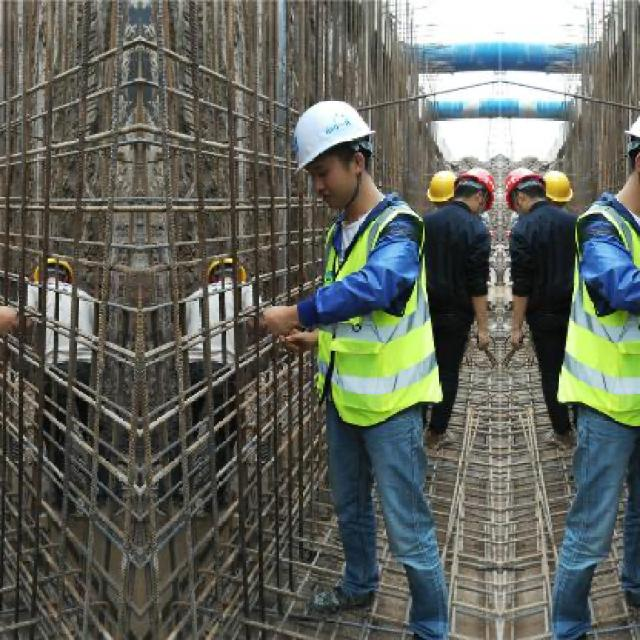con casco: (247, 74, 429, 272), (503, 147, 568, 221), (453, 162, 488, 234)
